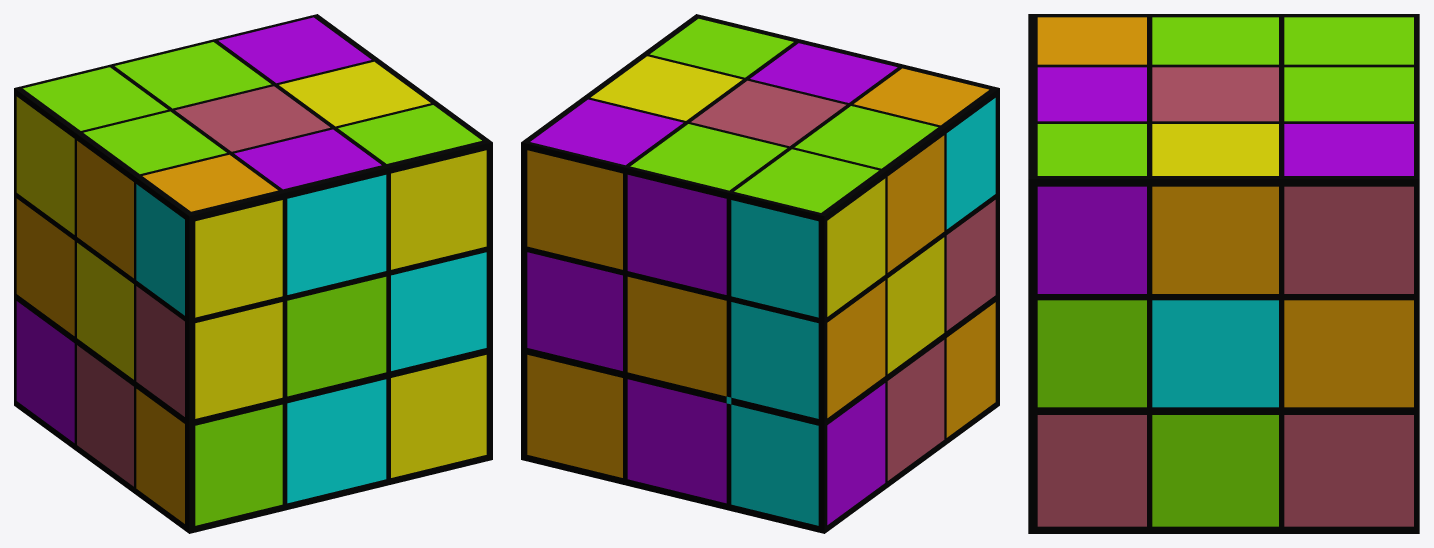
File: PuzzleBlock.fbx
3 views of the same model, side by side, from view 1: azimuth 30°, elevation 25°; view 2: azimuth 150°, elevation 25°; view 3: azimuth 270°, elevation 25° (orthographic). The views are drawn at different scales.
Parts seen in each view (by area): view 1: pasted__PuzzleCube; view 2: pasted__PuzzleCube; view 3: pasted__PuzzleCube.
Part boxes in pixels (x1,y1,x2,y2): pasted__PuzzleCube: [14, 14, 492, 533]; pasted__PuzzleCube: [521, 14, 999, 533]; pasted__PuzzleCube: [1028, 14, 1419, 533].
Bounding box in the file's own units: 0.1282 × 0.1282 × 0.1282.
